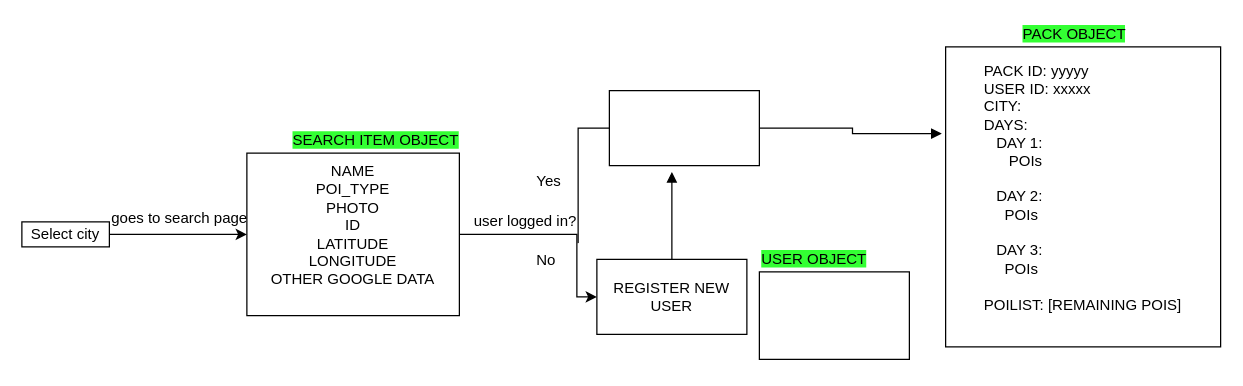
The diagram is 1243 pixels wide and 386 high, and some of its shapes have lost their labels. Each missing label, with the centre of its shape:
CREATE NEW PACK: the point at 683,127
USERNAME USER ID PROFILE PIC: the point at 833,315
